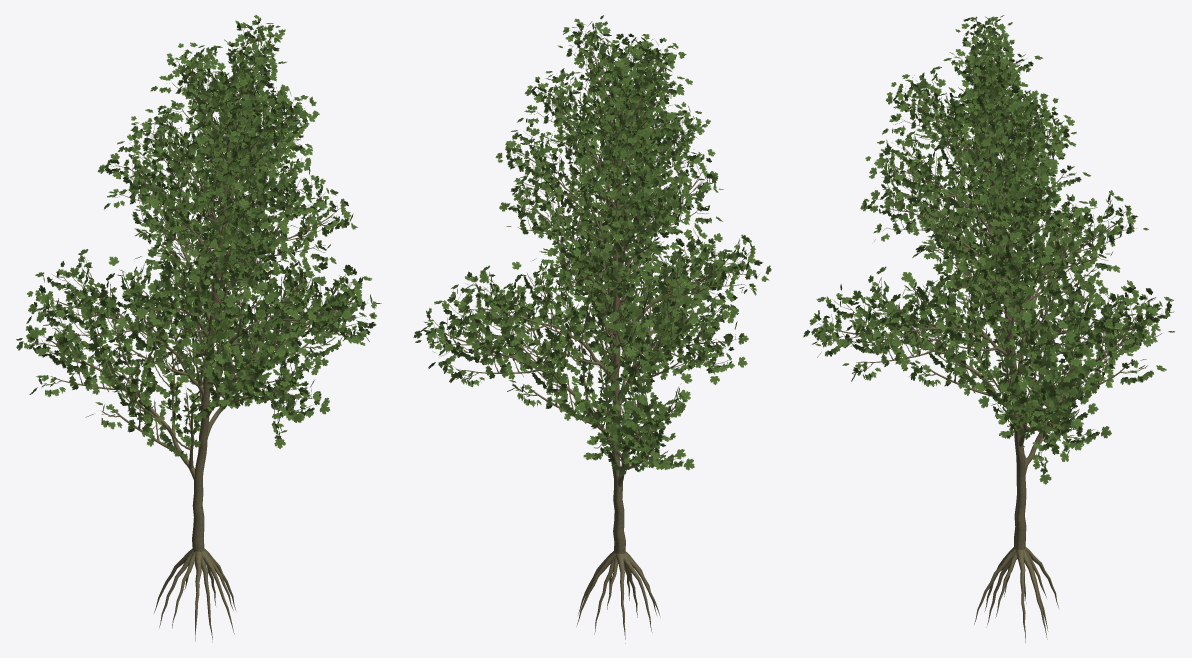
The model's file is MESH_EU01_AcerCampestre_Y_LOD0.fbx.
3 views of the same model, side by side, from view 1: azimuth 30°, elevation 25°; view 2: azimuth 150°, elevation 25°; view 3: azimuth 270°, elevation 25° (orthographic). The views are drawn at different scales.
Parts seen in each view (by area): view 1: MI_LOD0_001, MI_LOD0; view 2: MI_LOD0_001, MI_LOD0; view 3: MI_LOD0_001, MI_LOD0.
Boxes of the visible parts, <box> form: MI_LOD0_001: <box>16,15,381,460</box>; MI_LOD0: <box>28,24,368,642</box>; MI_LOD0_001: <box>413,15,771,476</box>; MI_LOD0: <box>427,26,759,643</box>; MI_LOD0_001: <box>803,15,1174,484</box>; MI_LOD0: <box>817,21,1162,642</box>.
Bounding box in the file's own units: 202 × 345 × 192.
